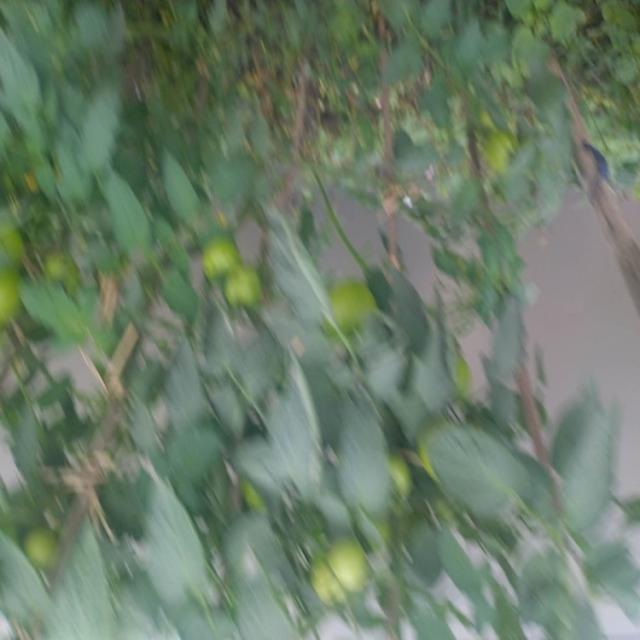tomato: (313, 265, 382, 336), (218, 254, 271, 326), (309, 541, 356, 618), (477, 118, 529, 181), (320, 527, 375, 585), (194, 227, 248, 284), (25, 520, 67, 574), (3, 265, 35, 331)
